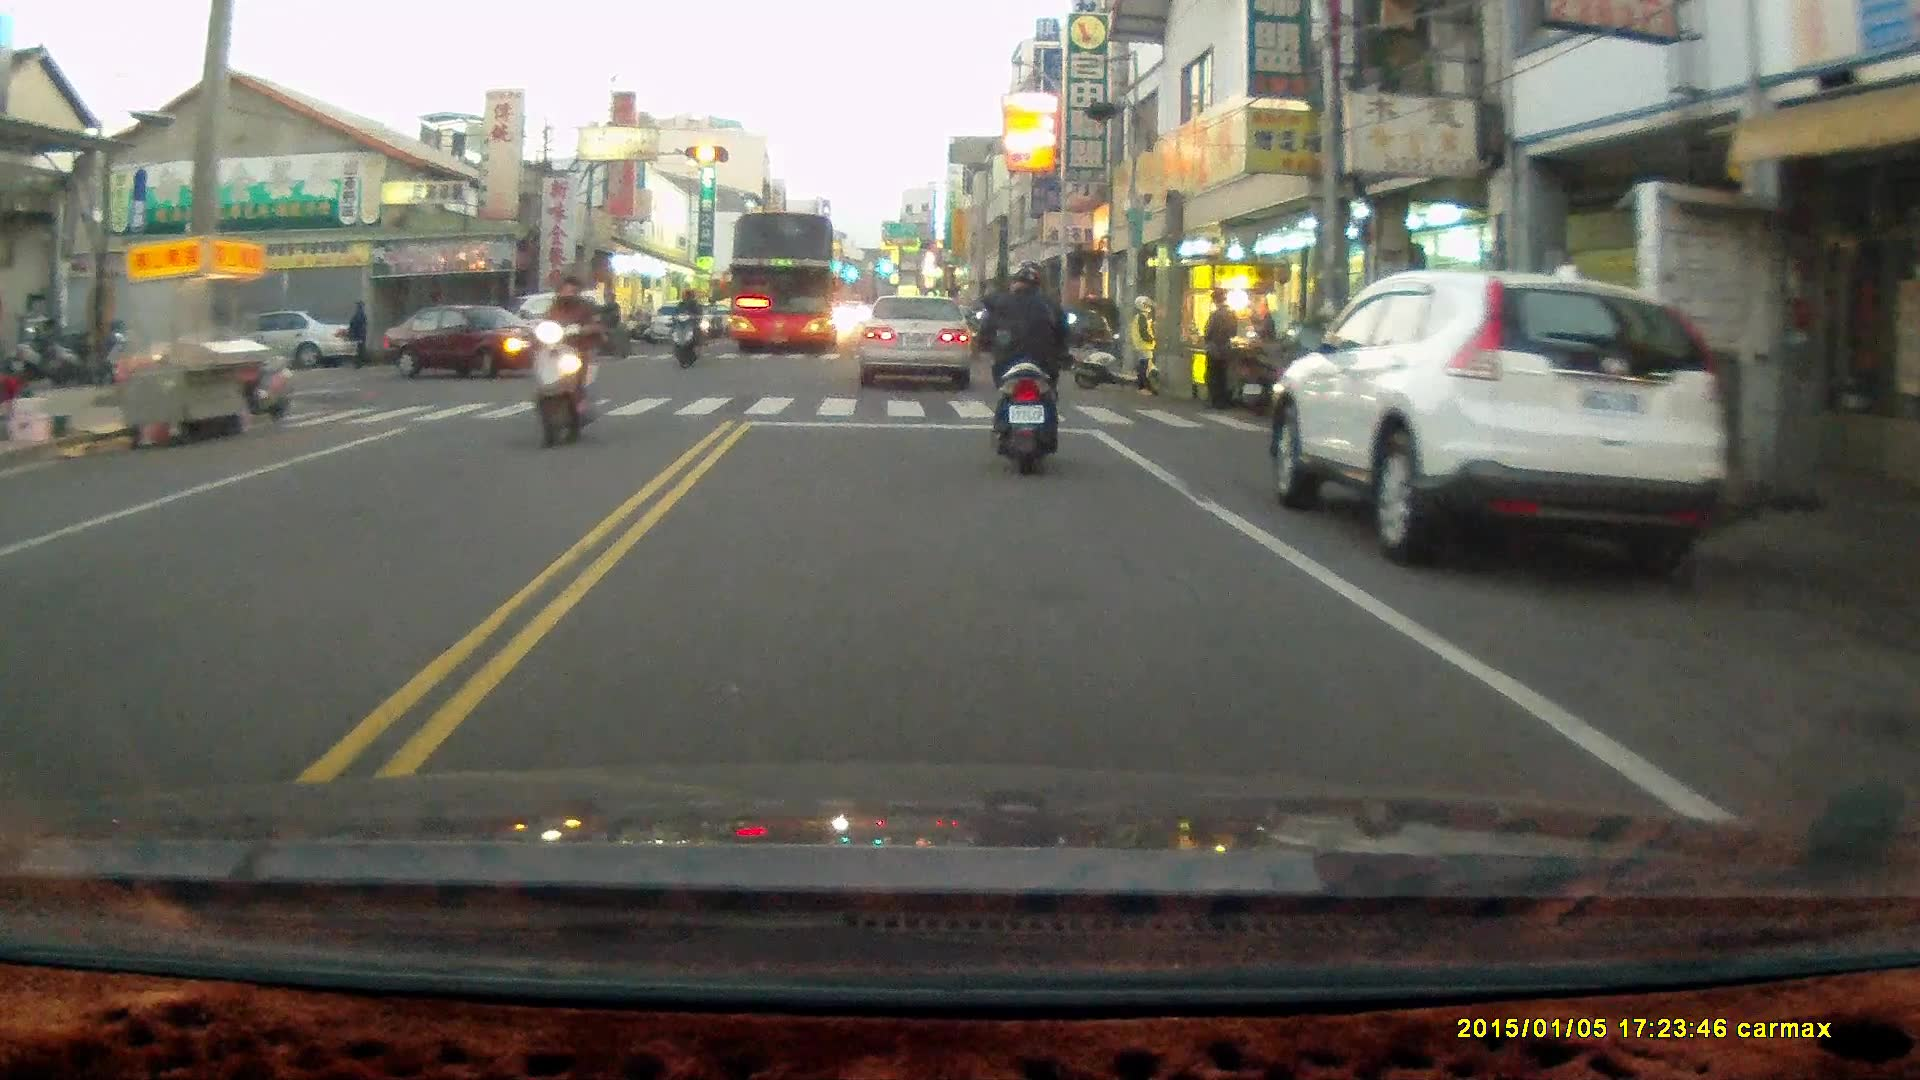pedestrian: (1204, 290, 1240, 417), (1126, 293, 1161, 399), (344, 302, 368, 371)
rider: (973, 261, 1078, 473), (518, 269, 603, 445), (579, 289, 628, 360), (665, 287, 704, 369)
vehicle: (1265, 267, 1731, 570), (719, 209, 845, 358), (389, 298, 564, 374), (858, 294, 974, 389), (232, 311, 364, 368)
